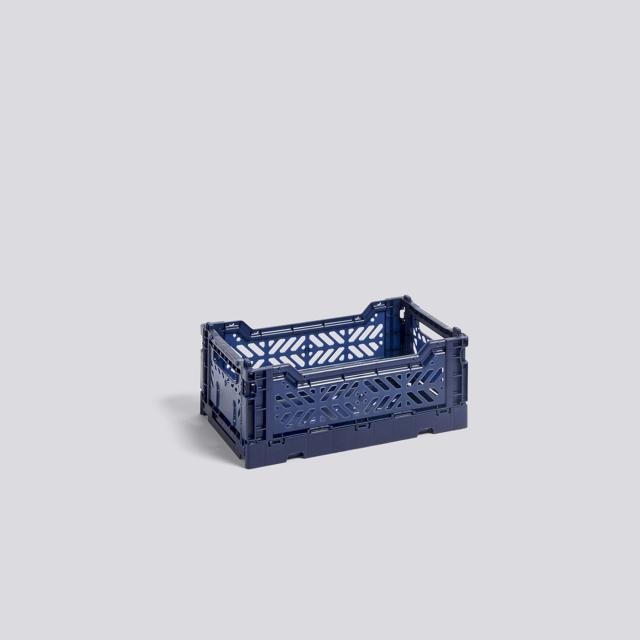basket: (186, 279, 484, 475)
